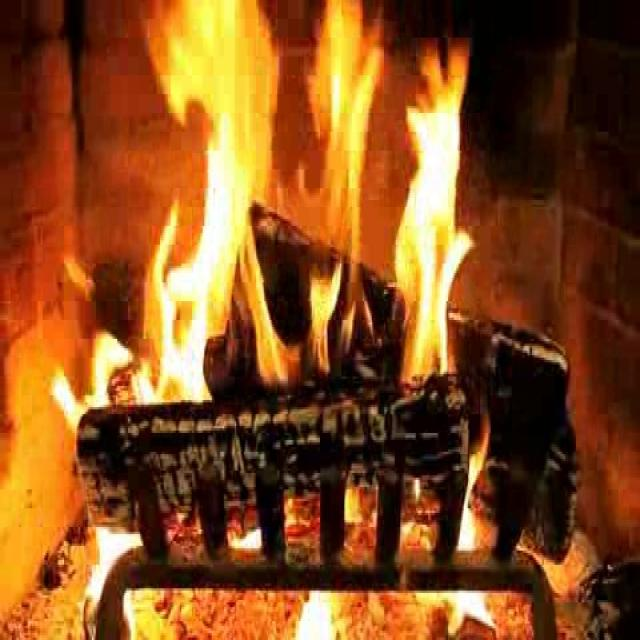fire: (136, 12, 462, 414)
